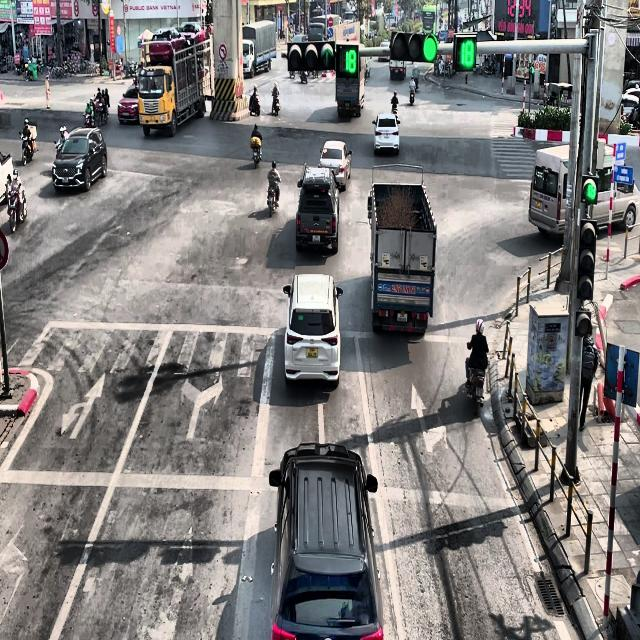lisence_plate: (305, 346, 319, 359), (396, 310, 408, 323)
